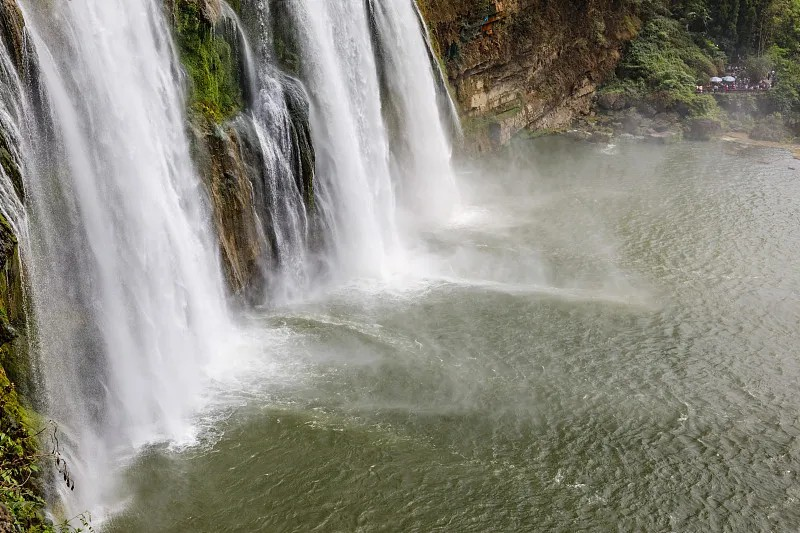Huangguoshu: (1, 1, 461, 533)
